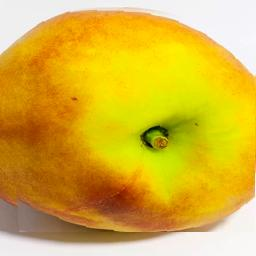Peach Semifresh: (3, 4, 256, 233)
